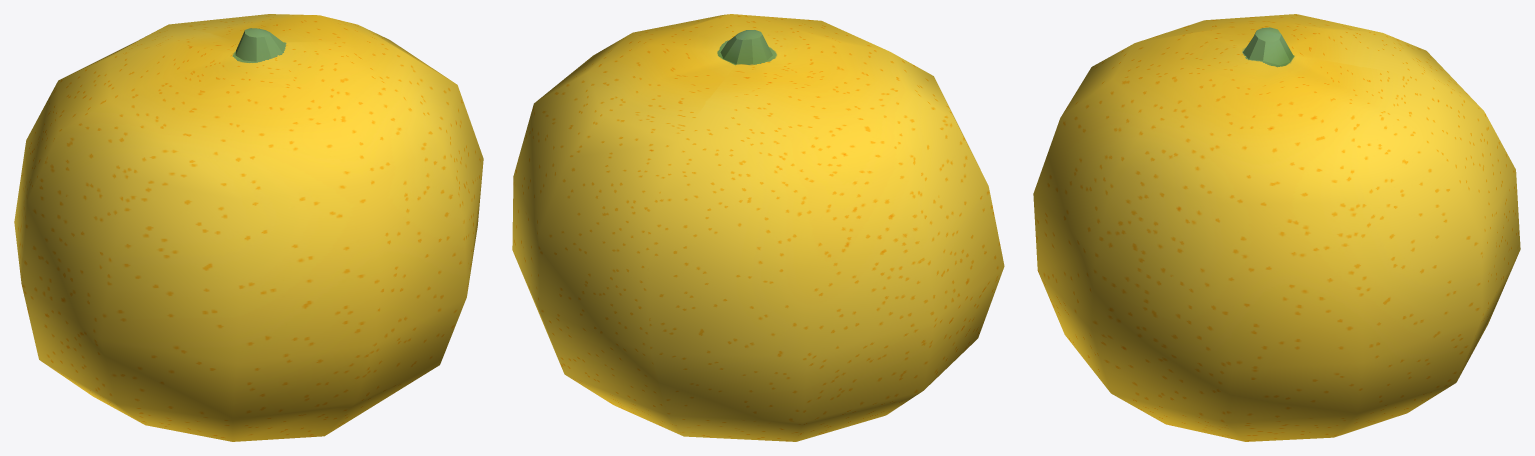
File: yuzu.fbx
3 renders of one model, left to right at view 1: azimuth 30°, elevation 25°; view 2: azimuth 150°, elevation 25°; view 3: azimuth 270°, elevation 25°, orthographic. The views are drawn at different scales.
Visible parts, largest first — view 1: pSphere1; view 2: pSphere1; view 3: pSphere1.
Boxes of the visible parts, x1,y1,x2,y2 form: pSphere1: [14, 14, 483, 441]; pSphere1: [512, 14, 1004, 441]; pSphere1: [1033, 14, 1520, 441].
Size of the model in its own units: 1.59 by 1.35 by 1.59.
